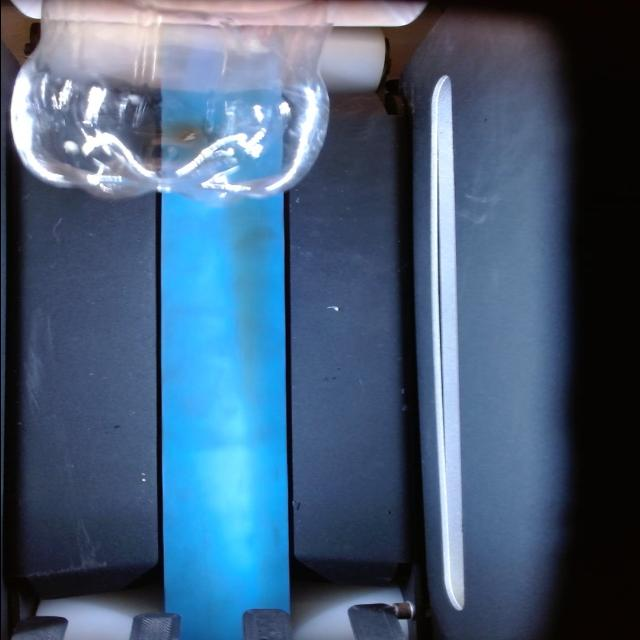bottom: (0, 110, 340, 206)
